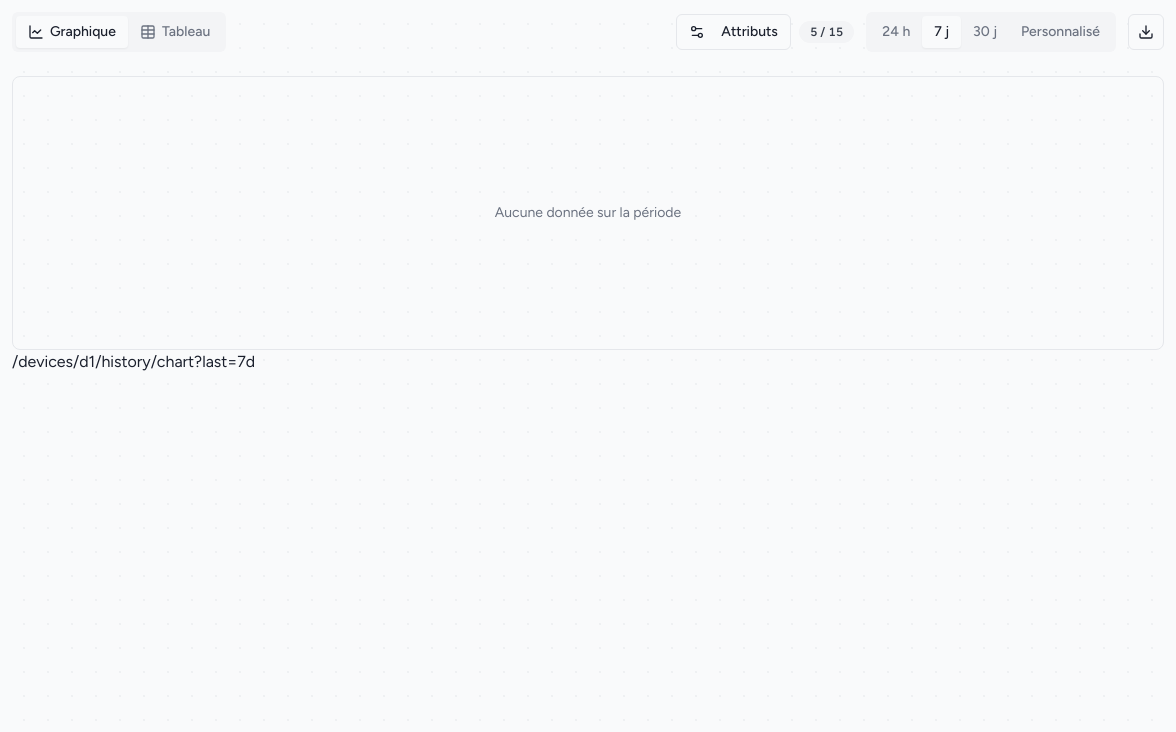
Scenario: DeviceHistoryPage views › opens on the chart and keeps the query when switching to the table
The width and height of the screenshot is (1176, 732).
Expected: the text with test id "location" reads "/devices/d1/history/chart?last=7d", [12, 352, 255, 371]
Click the link "Tableau" at (175, 32), box [140, 23, 210, 40]
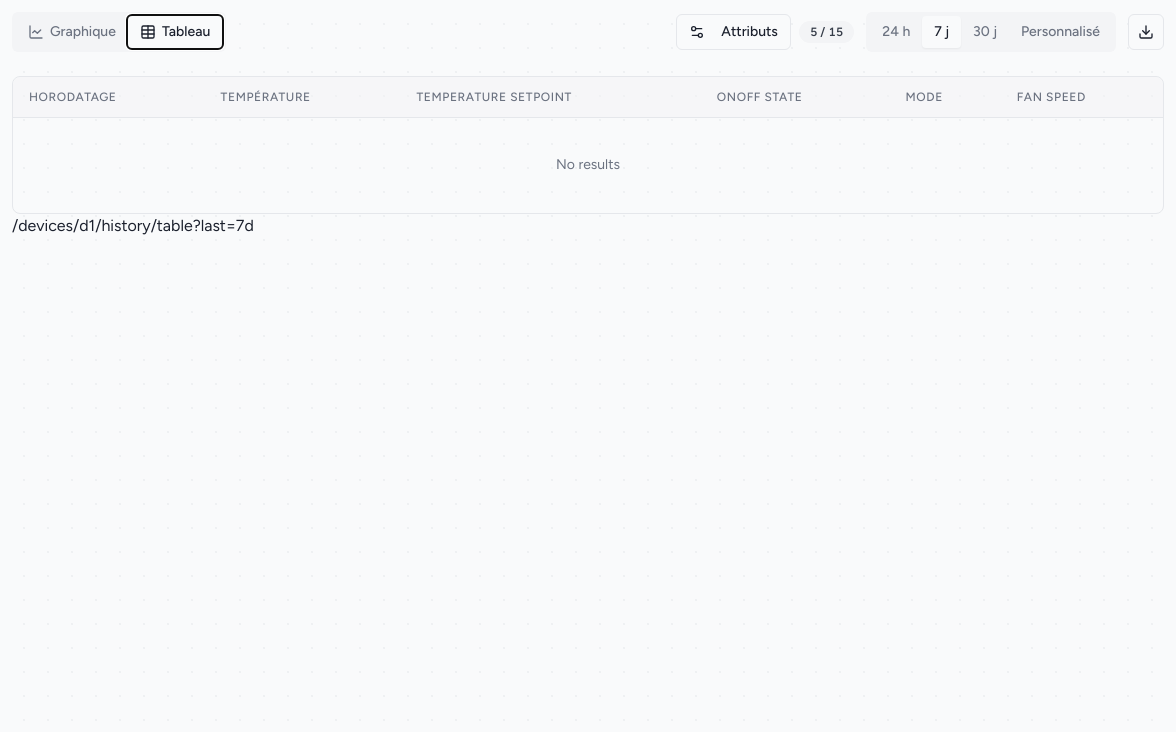
Result: the text with test id "location" reads "/devices/d1/history/table?last=7d" at [12, 216, 254, 235]
Result: the table is shown at [13, 77, 1163, 213]
